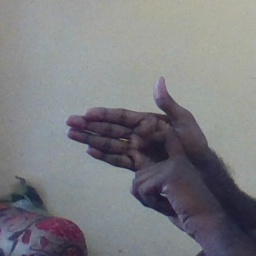R: (61, 77, 208, 219)
